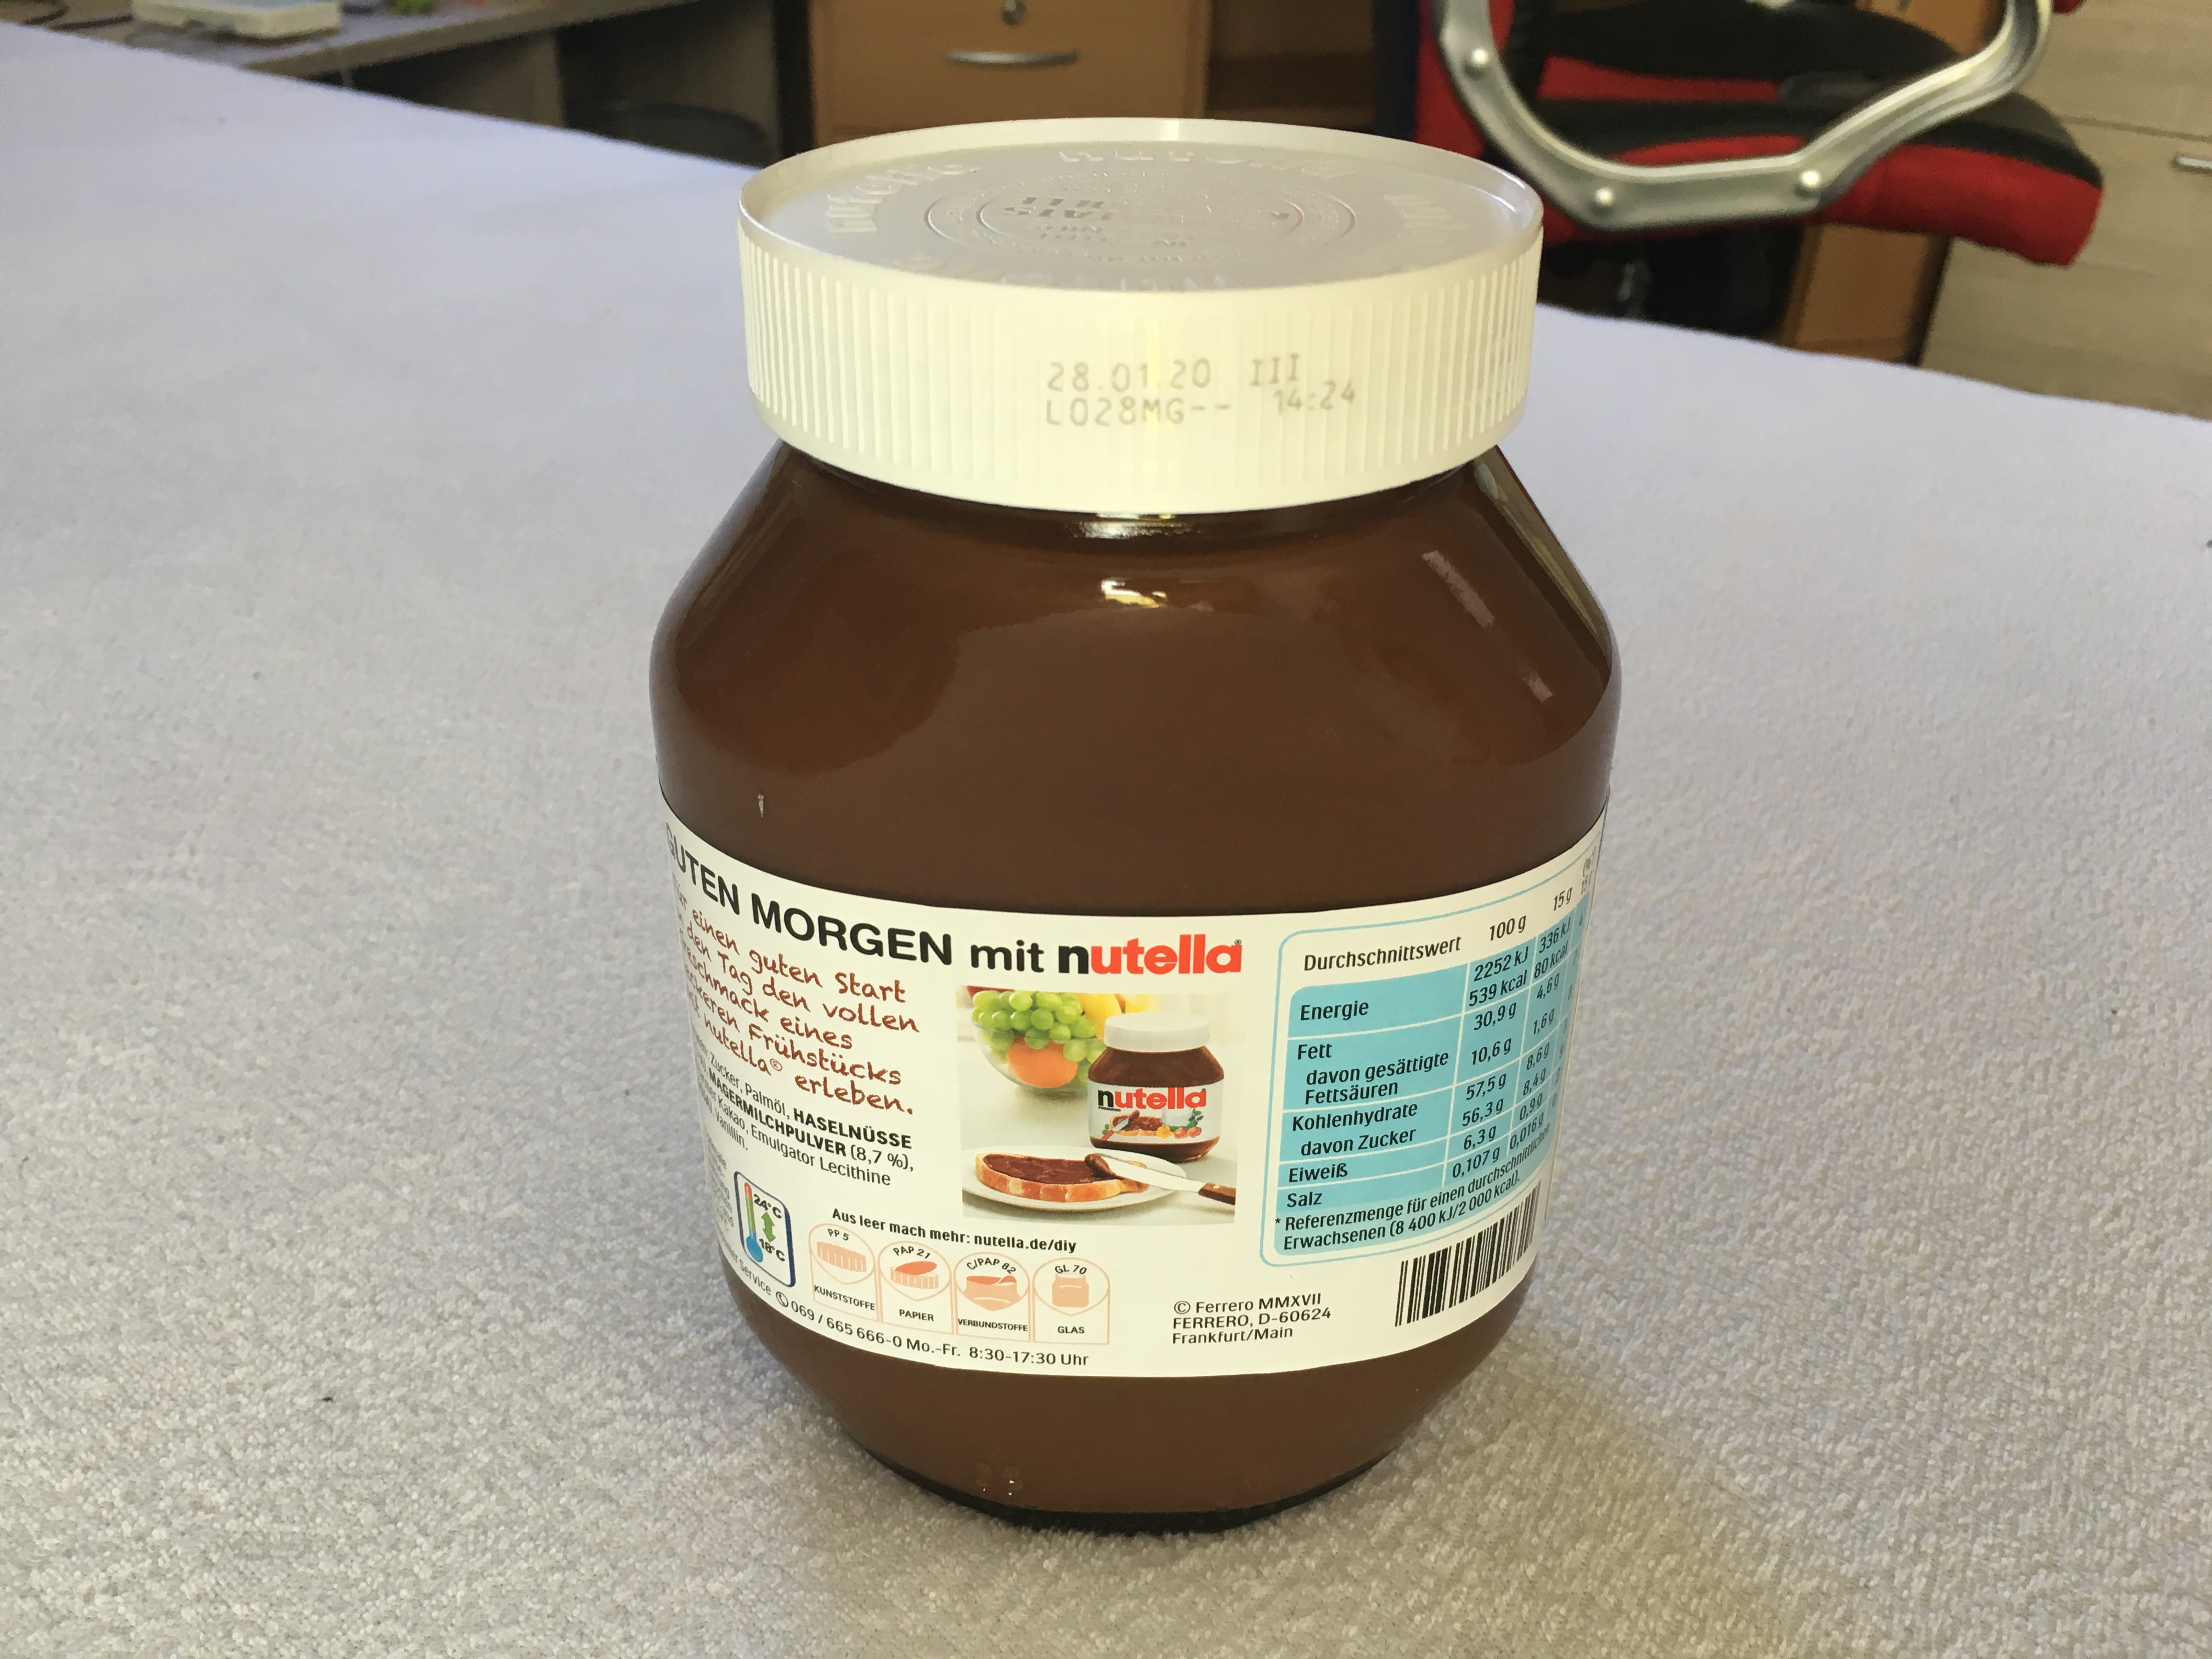nutella: (646, 117, 1623, 1539)
